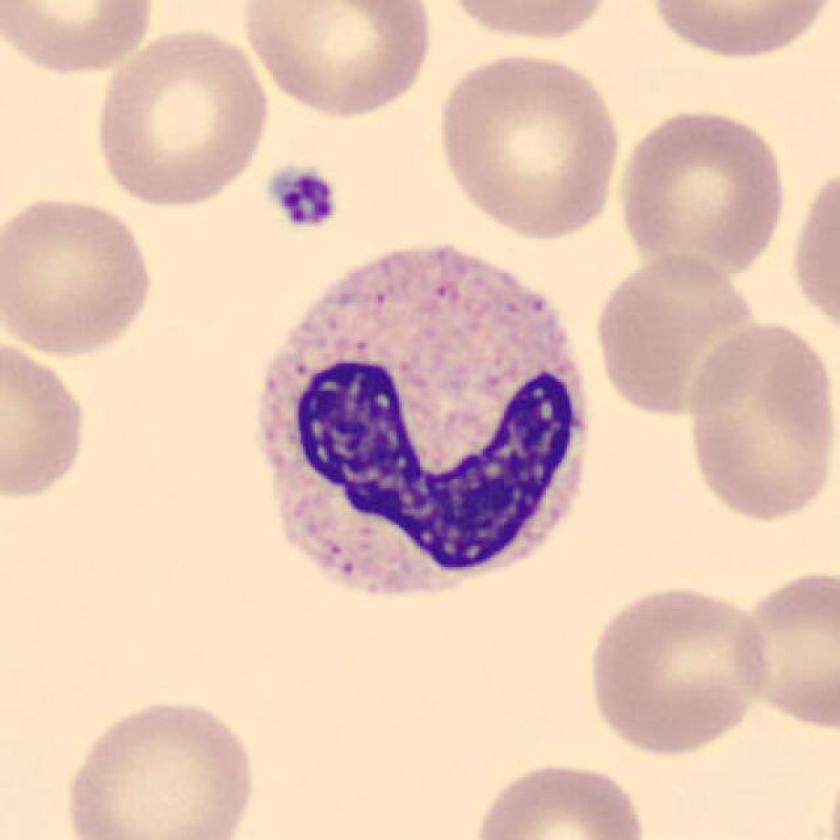neutrophil: (263, 245, 587, 590)
